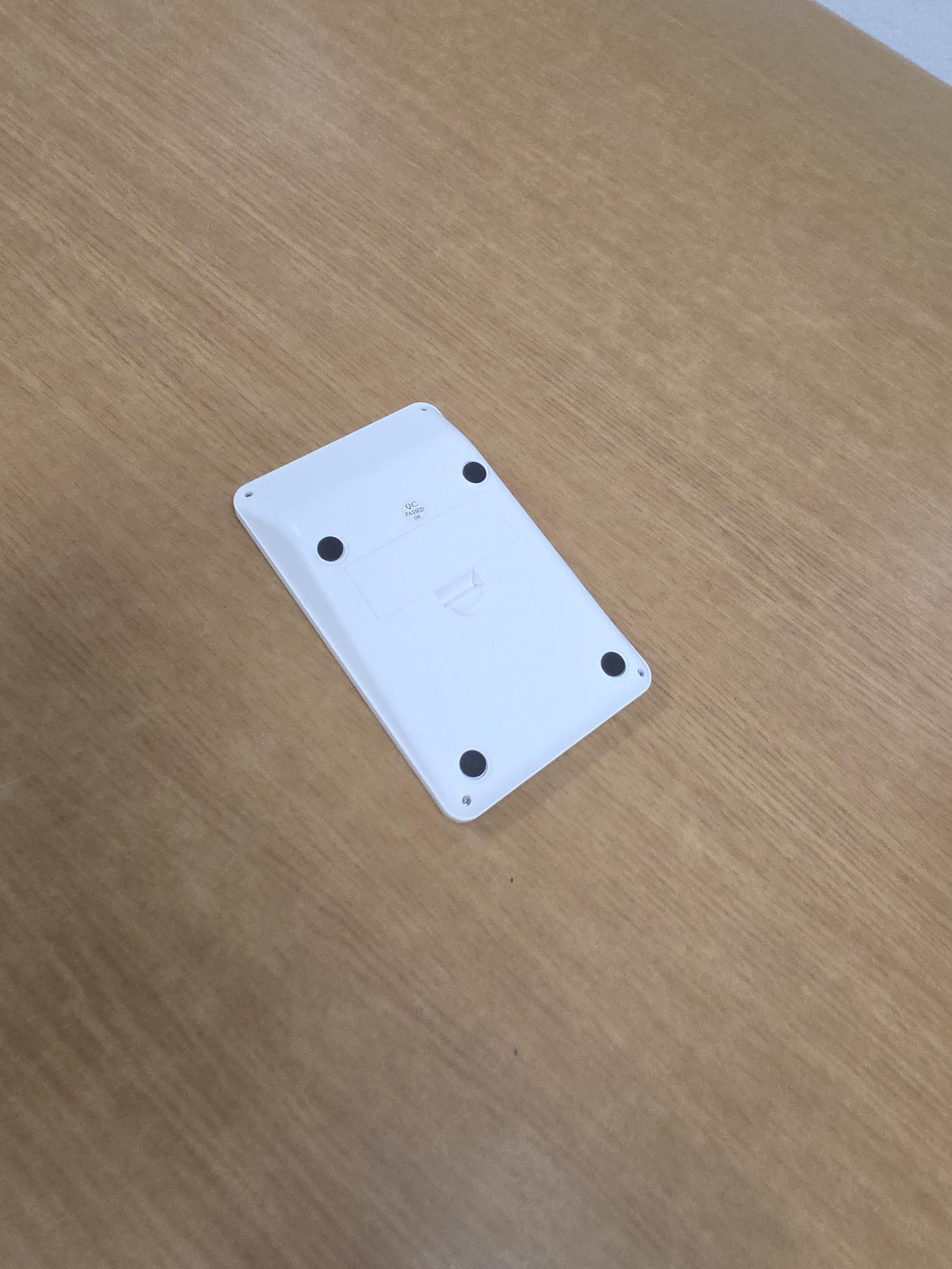calculator: (232, 402, 652, 824)
